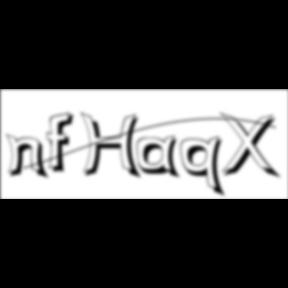H: (80, 112, 146, 182)
X: (219, 112, 283, 182)
a: (137, 135, 185, 182)
f: (46, 111, 80, 175)
n: (6, 132, 53, 181)
q: (180, 135, 230, 200)
